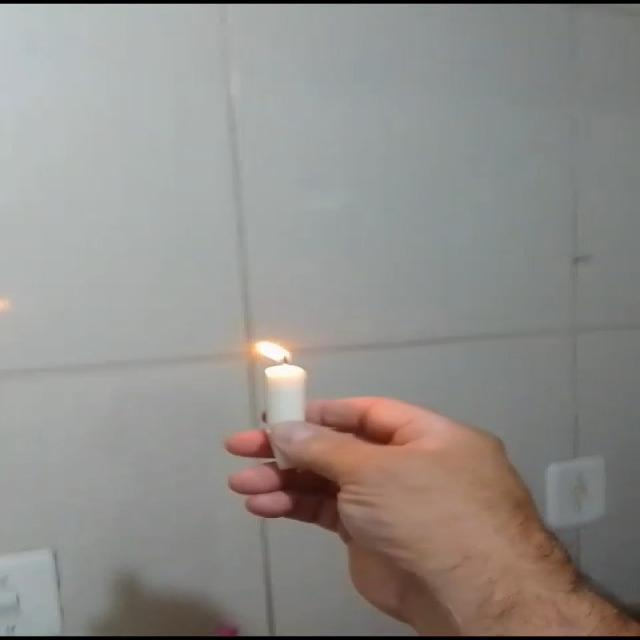fire: (253, 330, 295, 367)
